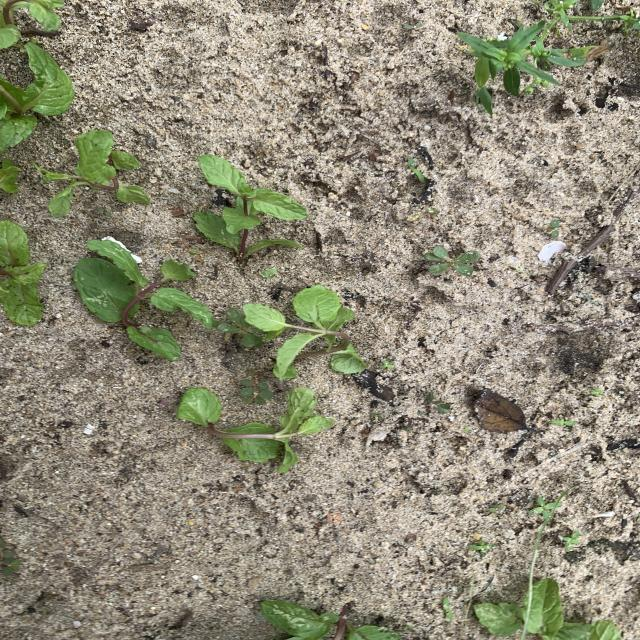crop: (74, 240, 213, 359), (176, 387, 334, 471), (194, 155, 306, 260), (242, 285, 367, 377), (37, 130, 149, 215), (475, 578, 622, 639), (1, 73, 73, 151), (260, 600, 400, 639), (1, 1, 63, 84), (1, 220, 46, 324), (0, 159, 20, 191)
weed: (458, 22, 559, 114), (215, 308, 264, 347), (532, 1, 577, 38), (424, 246, 479, 275), (239, 370, 274, 403), (1, 537, 19, 574), (530, 497, 555, 517), (426, 392, 450, 412), (408, 157, 425, 183), (562, 530, 579, 552), (408, 208, 439, 220), (470, 540, 494, 555), (505, 264, 526, 275), (442, 597, 452, 619), (546, 220, 560, 235), (260, 268, 277, 278), (551, 419, 575, 426), (380, 360, 394, 371), (406, 23, 423, 31), (489, 504, 503, 513), (95, 208, 111, 215), (590, 389, 603, 395), (400, 424, 411, 431), (404, 625, 415, 630), (456, 583, 464, 589)
